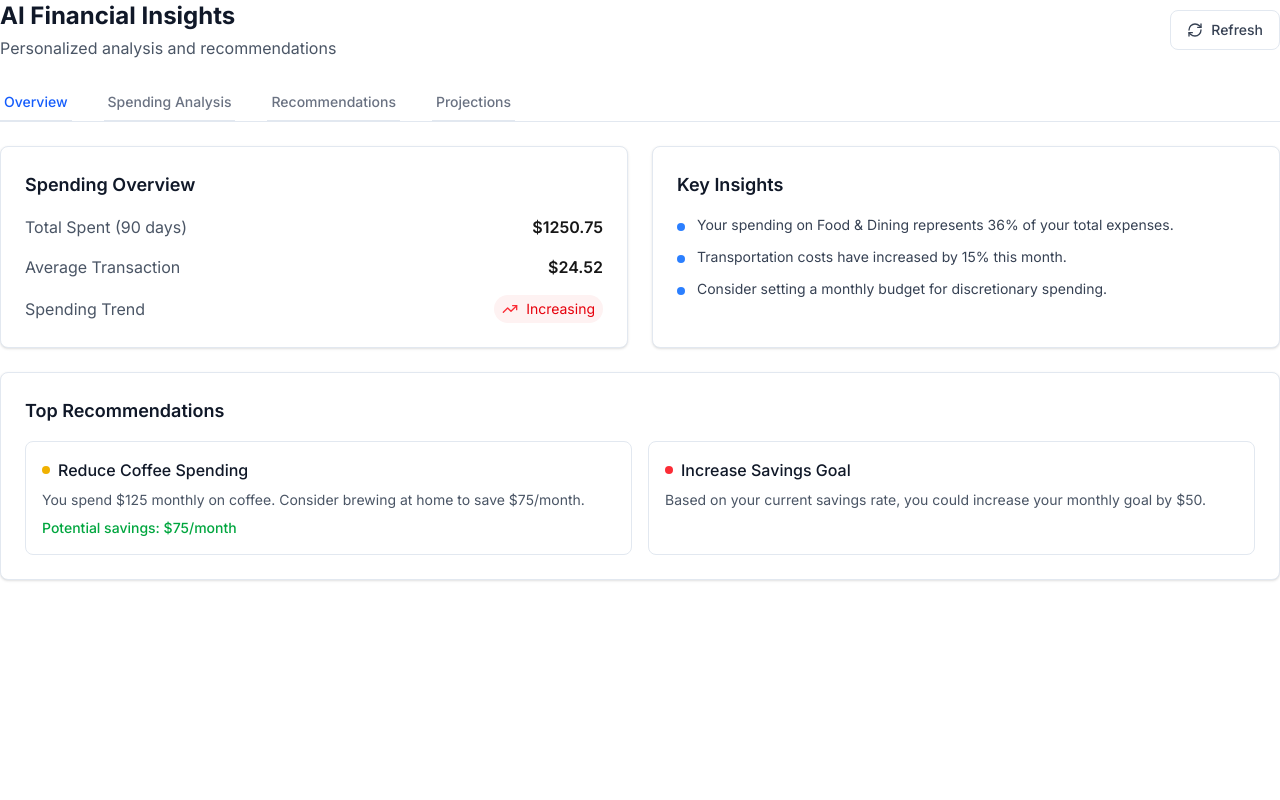
Test case: InsightsPanel › handles tab navigation
Expected: the button "Overview" is shown, [0,84,72,122]
// Click on Spending Analysis tab
Click the button "Spending Analysis" at (169, 103), box [104,84,235,122]
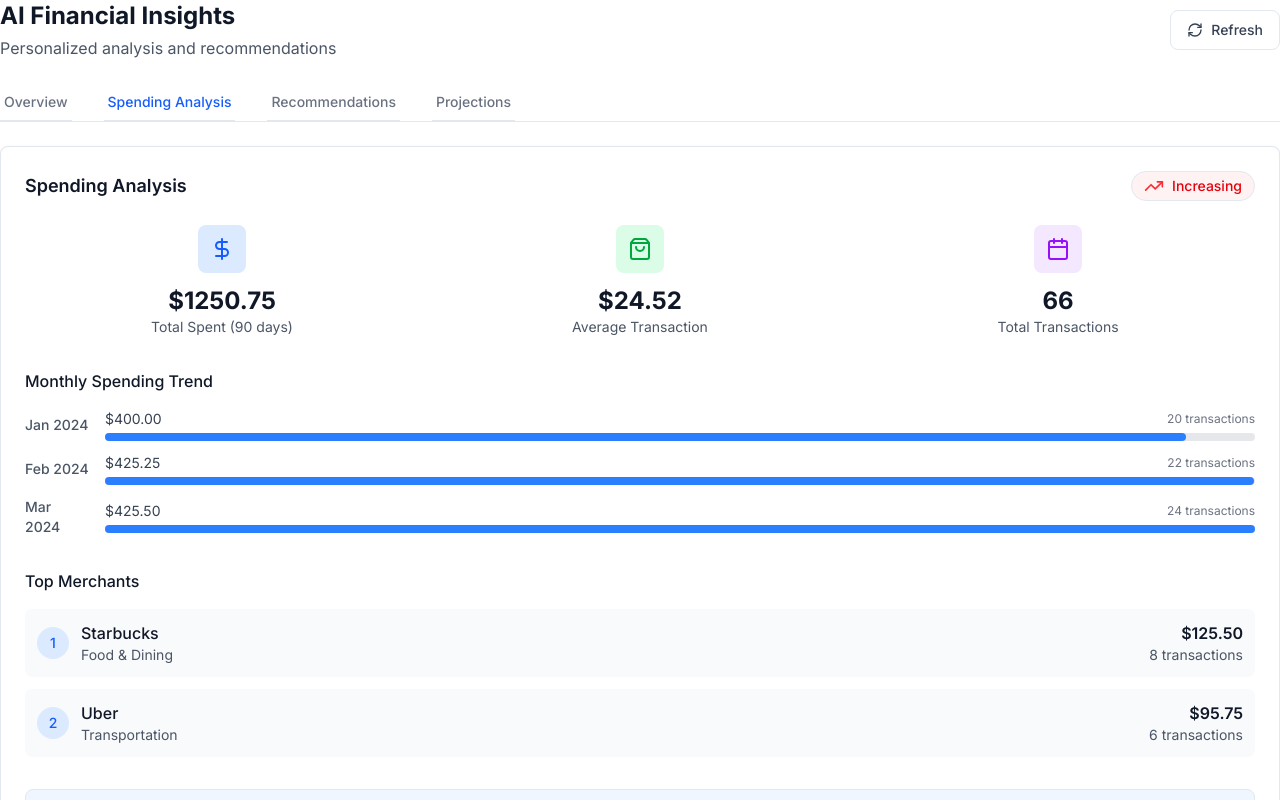
// Click on Recommendations tab
Click the button "Recommendations" at (334, 103), box [268,84,400,122]
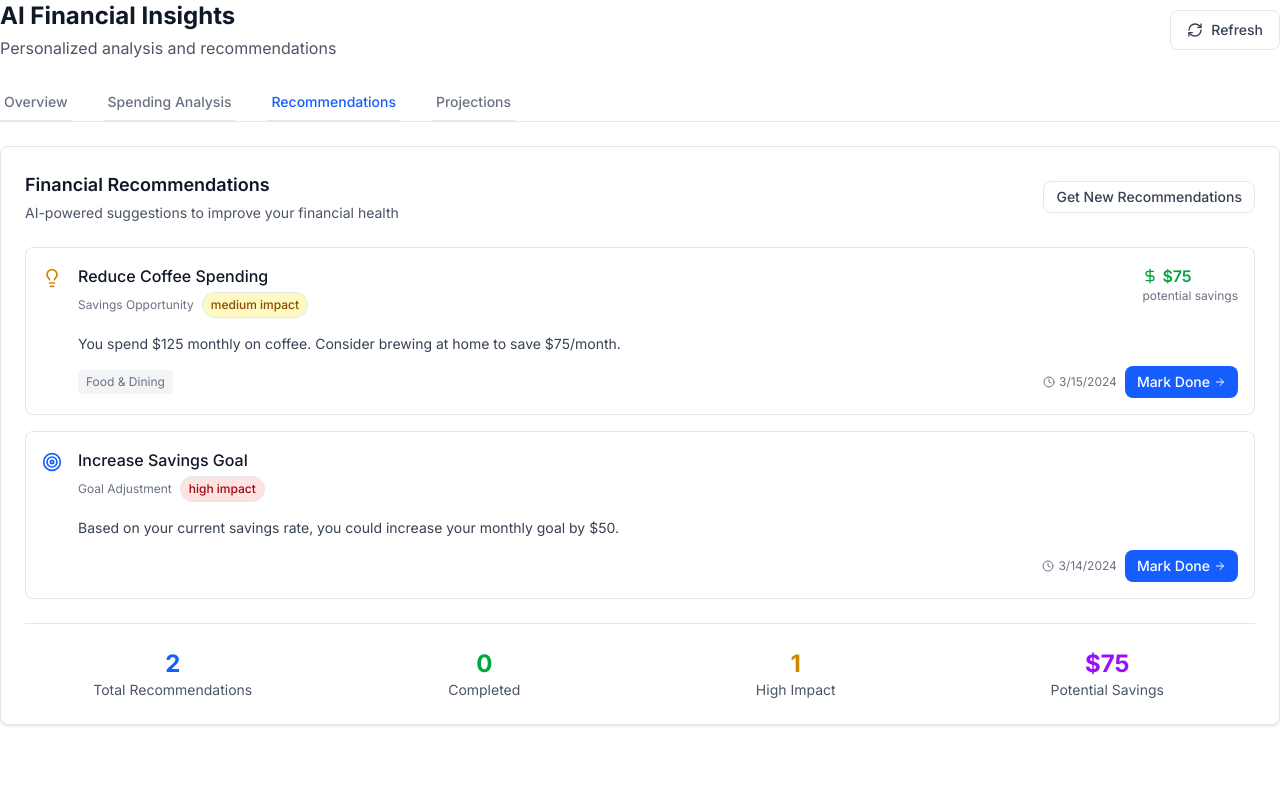
Expected: the heading "Financial Recommendations" is shown, [25,174,270,195]
